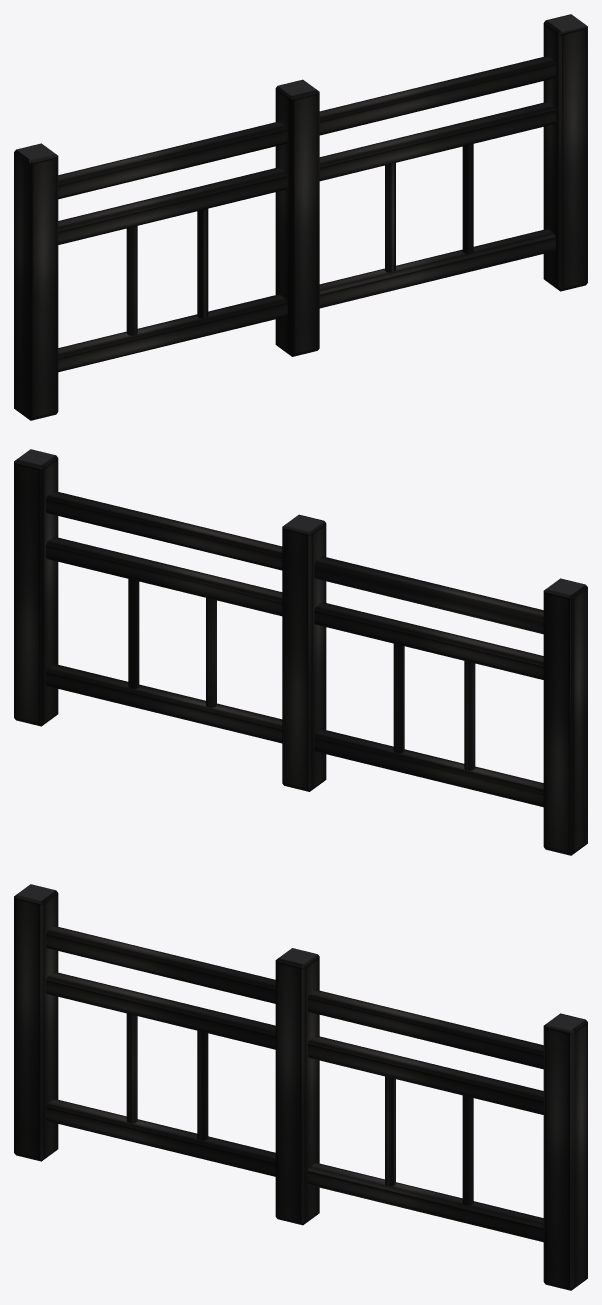
The model's file is saku.fbx.
3 views of the same model, one above another, from view 1: azimuth 30°, elevation 25°; view 2: azimuth 150°, elevation 25°; view 3: azimuth 330°, elevation 25° (orthographic).
Visible parts, largest first — view 1: pCube122; view 2: pCube122; view 3: pCube122.
Boxes of the visible parts, x1,y1,x2,y2 form: pCube122: [14, 14, 587, 420]; pCube122: [14, 449, 587, 855]; pCube122: [14, 884, 587, 1290].
Size of the model in its own units: 252 by 112 by 13.31.
